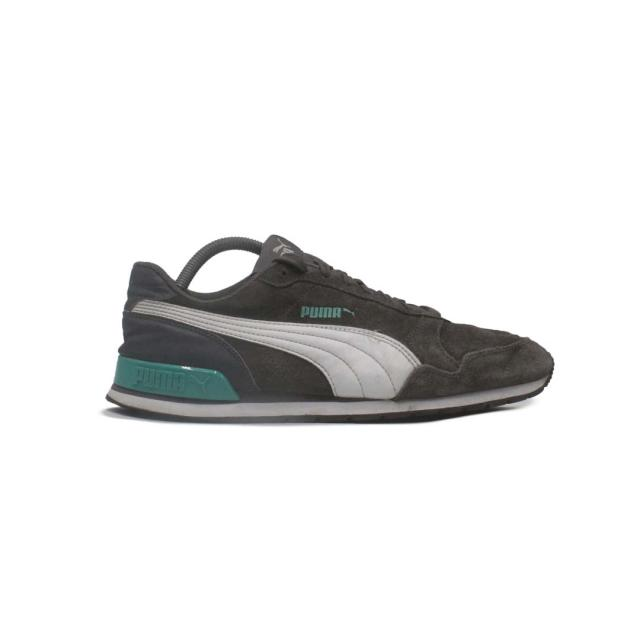heel: (120, 227, 161, 359)
midsole: (105, 358, 556, 427)
uppersole: (165, 234, 563, 388)
